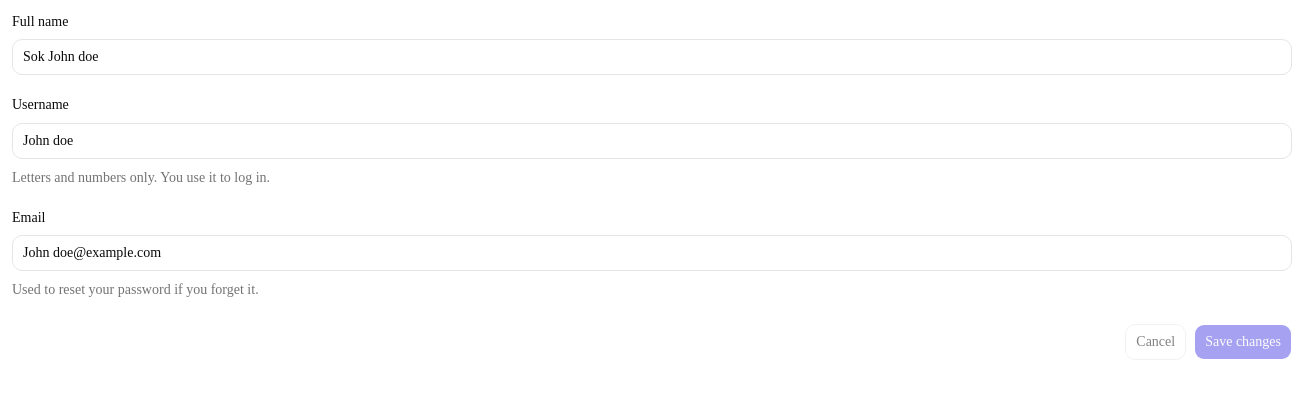
Test: ProfileForm › does not let an existing email be cleared
This screenshot has width=1304, height=401.
Clear the field labelled "Email" at (652,253), box x1=12 y1=235 x2=1292 y2=271
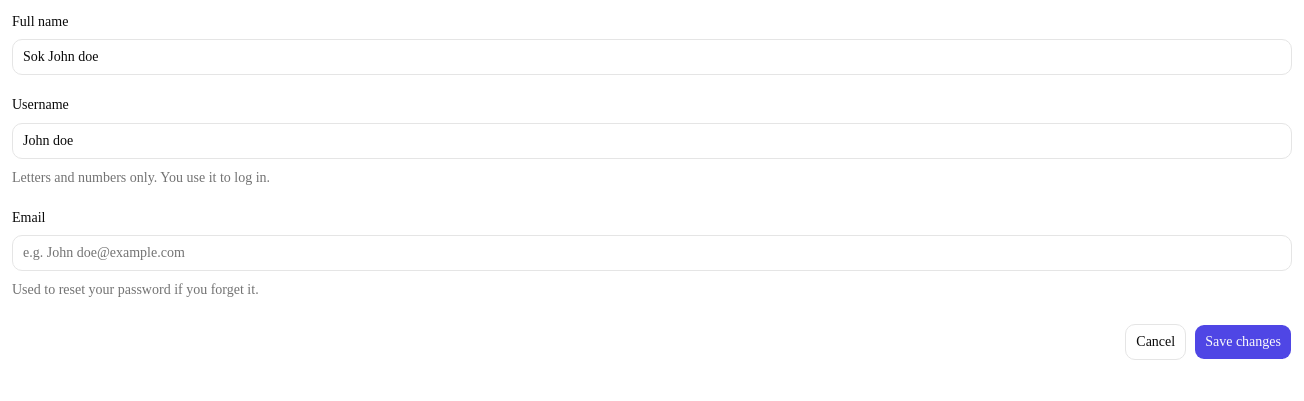
Click the button "Save changes" at (1243,342), box x1=1194 y1=324 x2=1292 y2=360
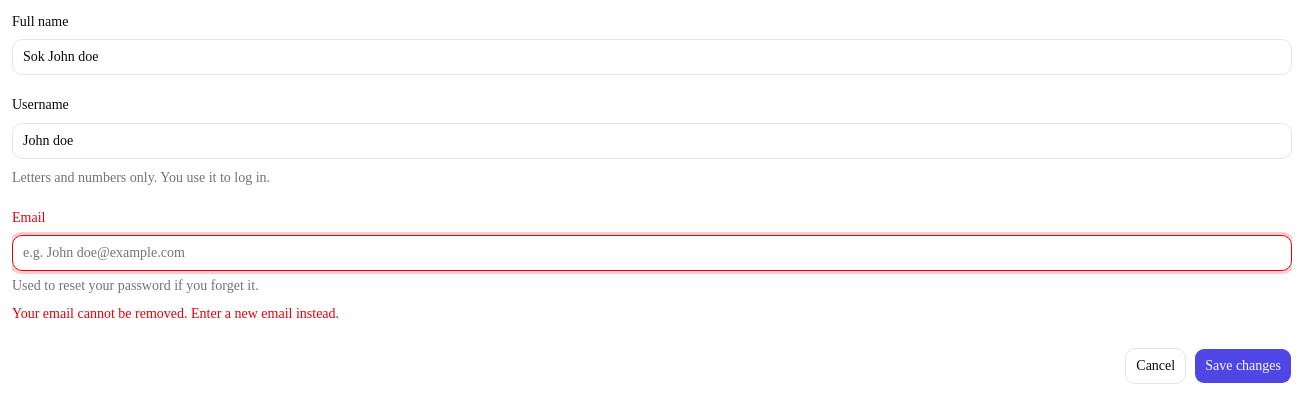
Expected: the text "Your email cannot be removed. Enter a new email instead." is shown, x1=12 y1=306 x2=339 y2=321
